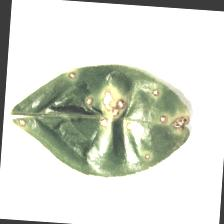canker: (64, 69, 194, 135)
